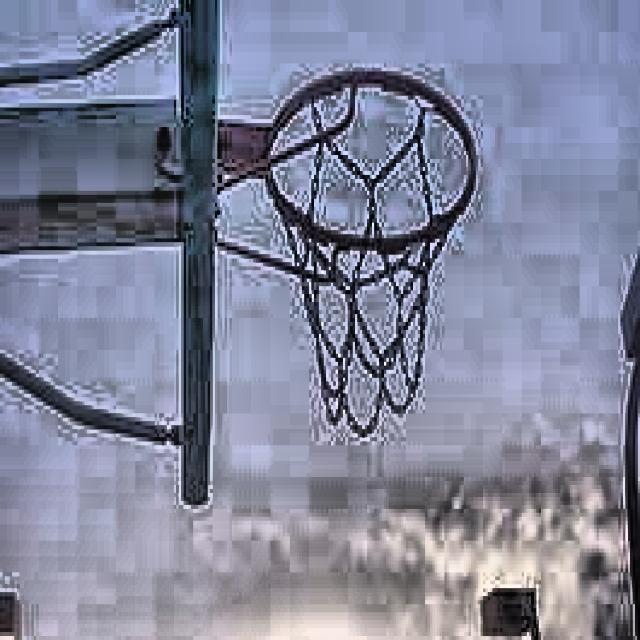rim: (271, 68, 478, 437)
